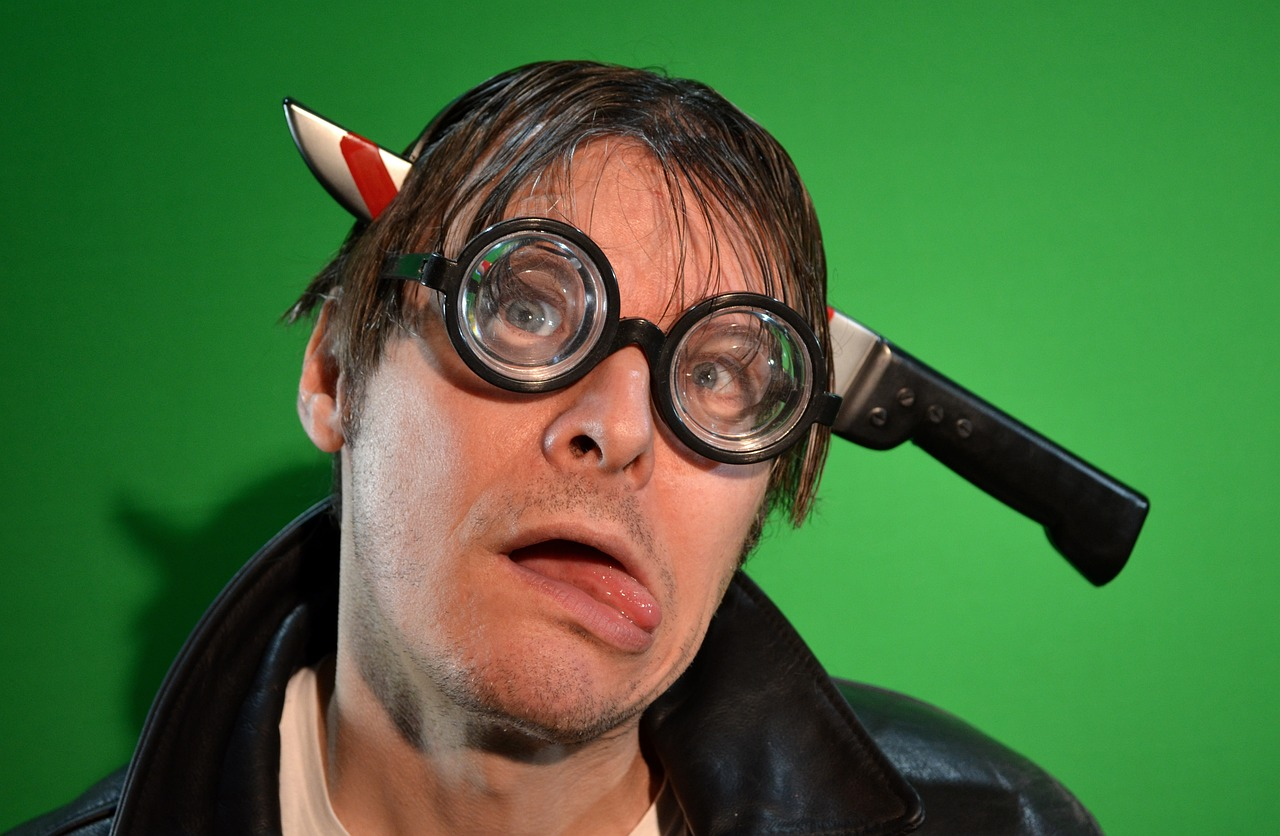blood: (334, 130, 414, 231)
knife: (280, 95, 1164, 596)
